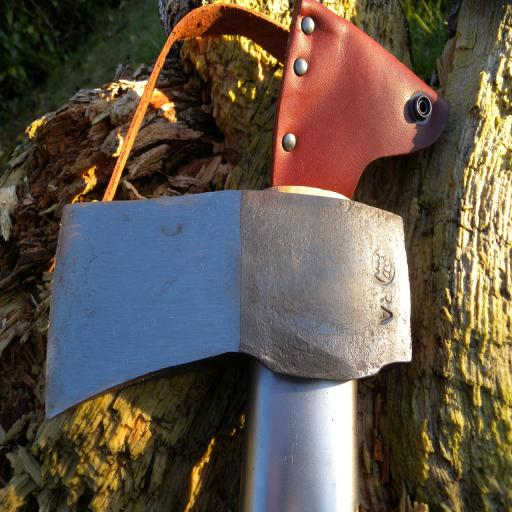Axe: (43, 0, 450, 512)
